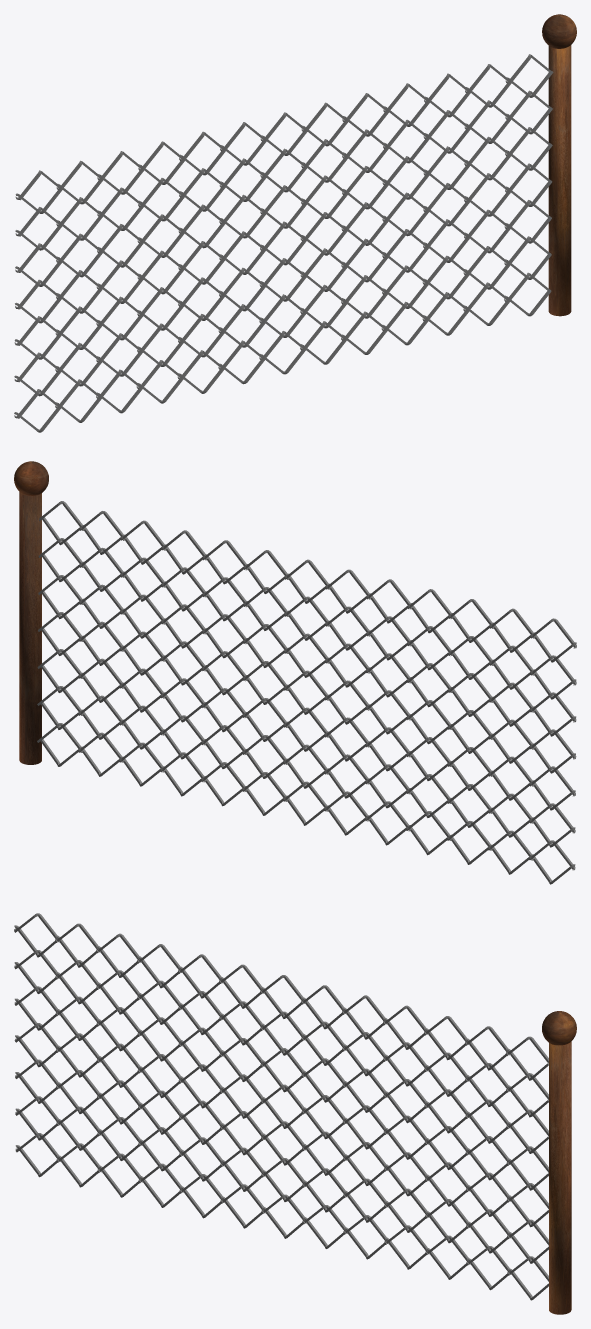
The model's file is pagarkecil.fbx.
3 views of the same model, one above another, from view 1: azimuth 30°, elevation 25°; view 2: azimuth 150°, elevation 25°; view 3: azimuth 330°, elevation 25° (orthographic).
Visible parts, largest first — view 1: Cube.042; view 2: Cube.042; view 3: Cube.042.
Boxes of the visible parts, x1=… form: Cube.042: x1=14, y1=14, x2=576, y2=432; Cube.042: x1=14, y1=461, x2=576, y2=884; Cube.042: x1=14, y1=913, x2=576, y2=1314.
Bounding box in the file's own units: 389 × 197 × 21.12.
2 materials, 1 textured.
